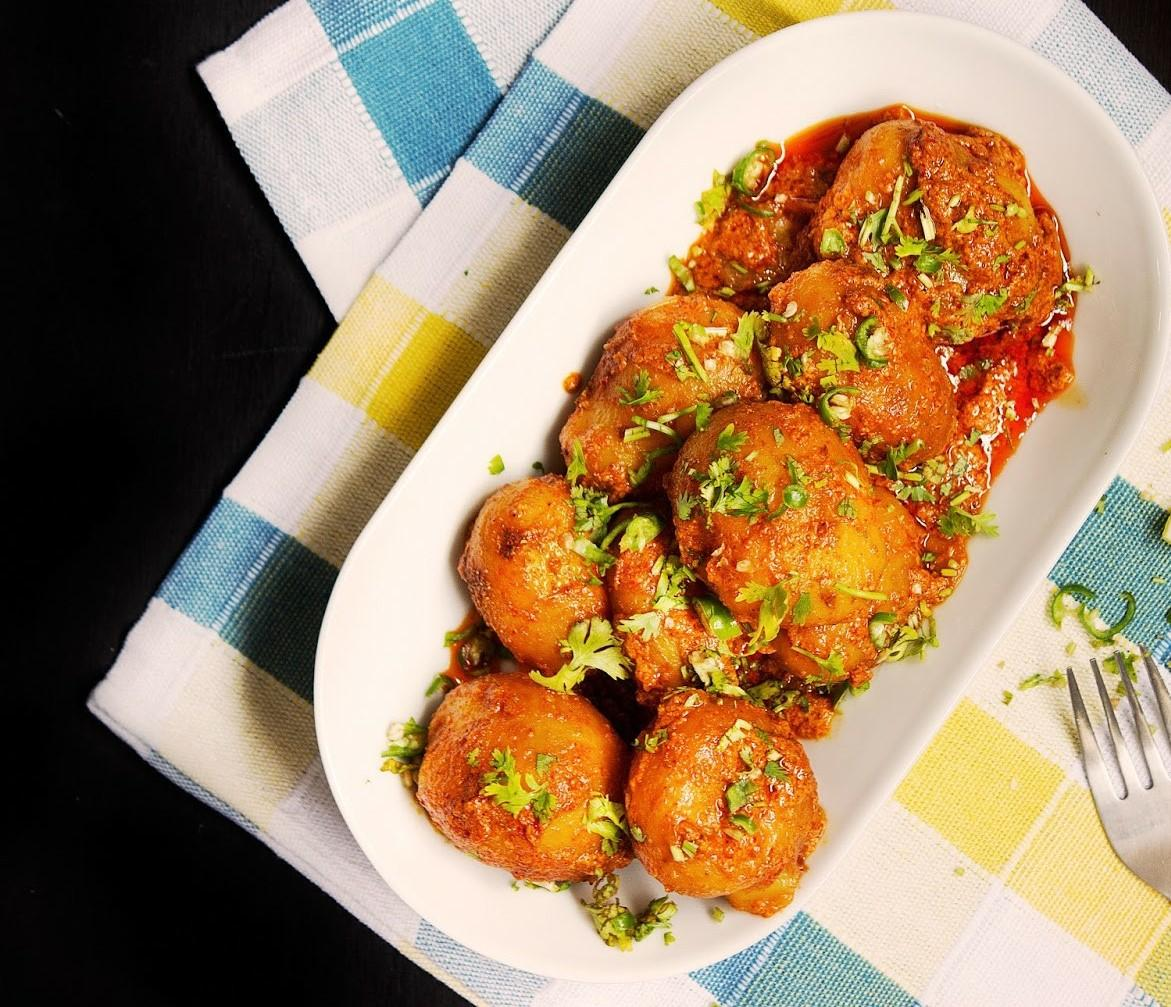DumAloo: (378, 102, 1102, 951)
